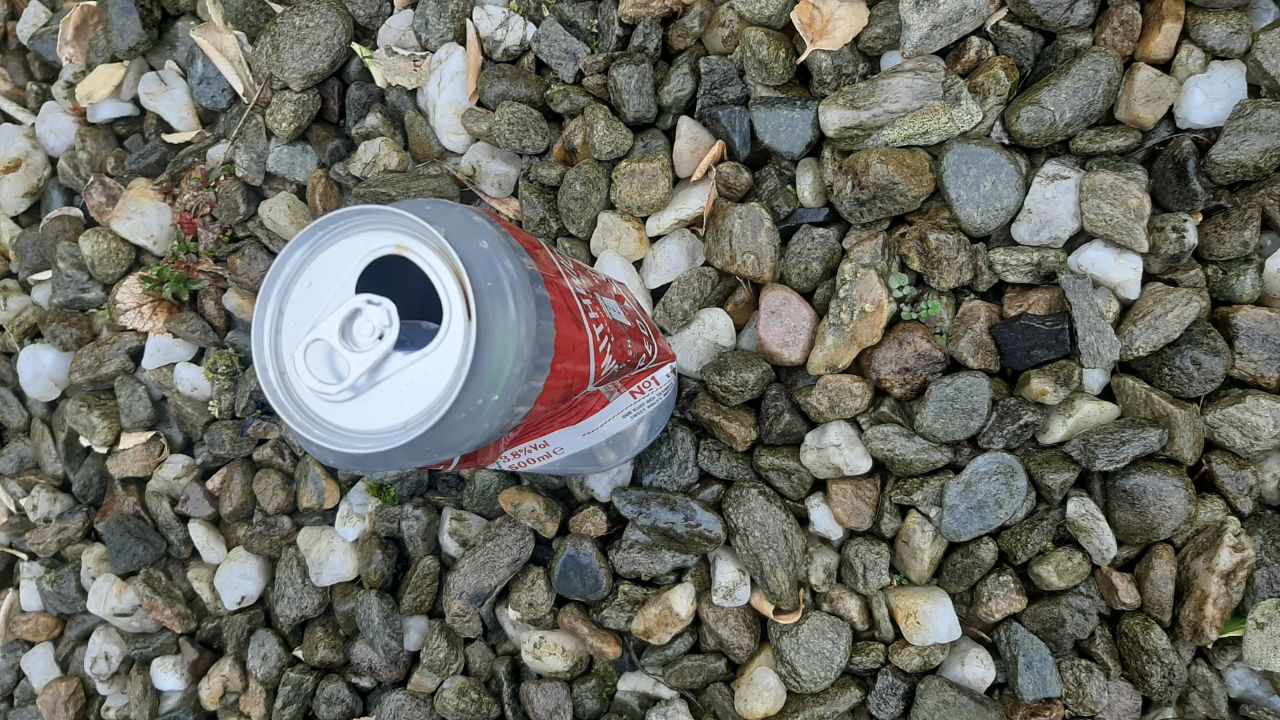Can: (247, 197, 683, 475)
